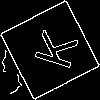K: (25, 25, 79, 71)
